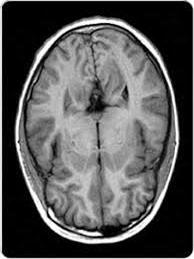Normal_Brain: (15, 7, 192, 259)
